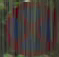No Stopping: (6, 3, 51, 48)
